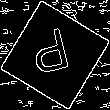P_S: (31, 26, 79, 84)
